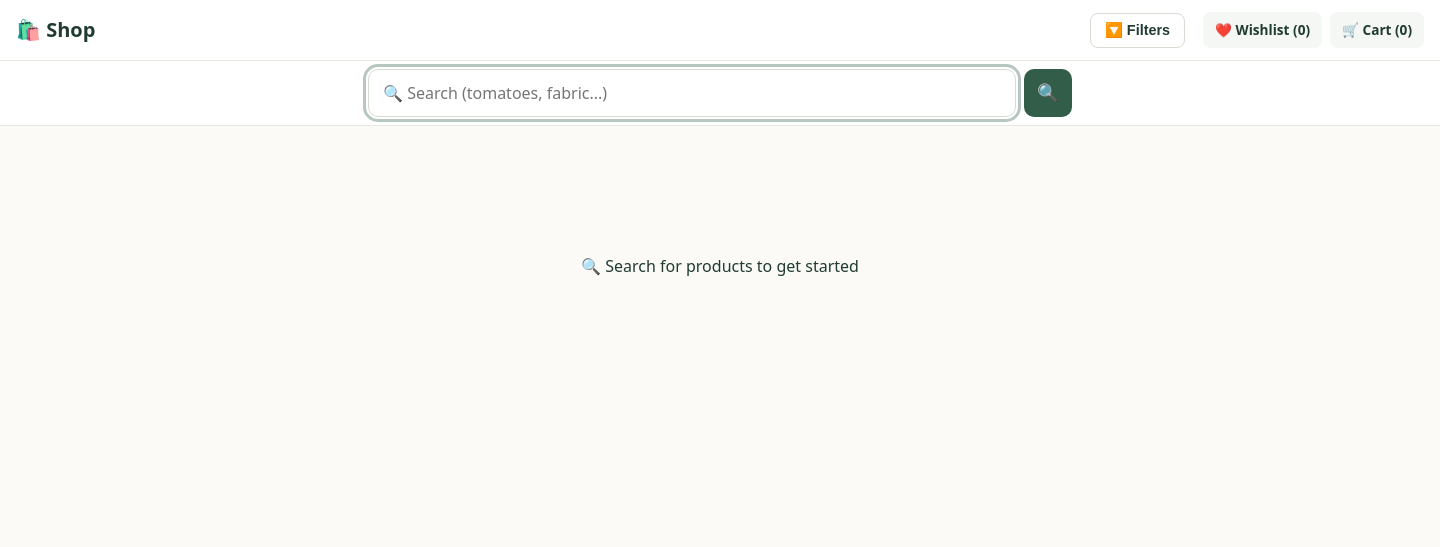
Test: minimal shopping page › does not add a product with no available option
Type "orange" into the field named "Search products" at (692, 93), box [368,69,1016,117]
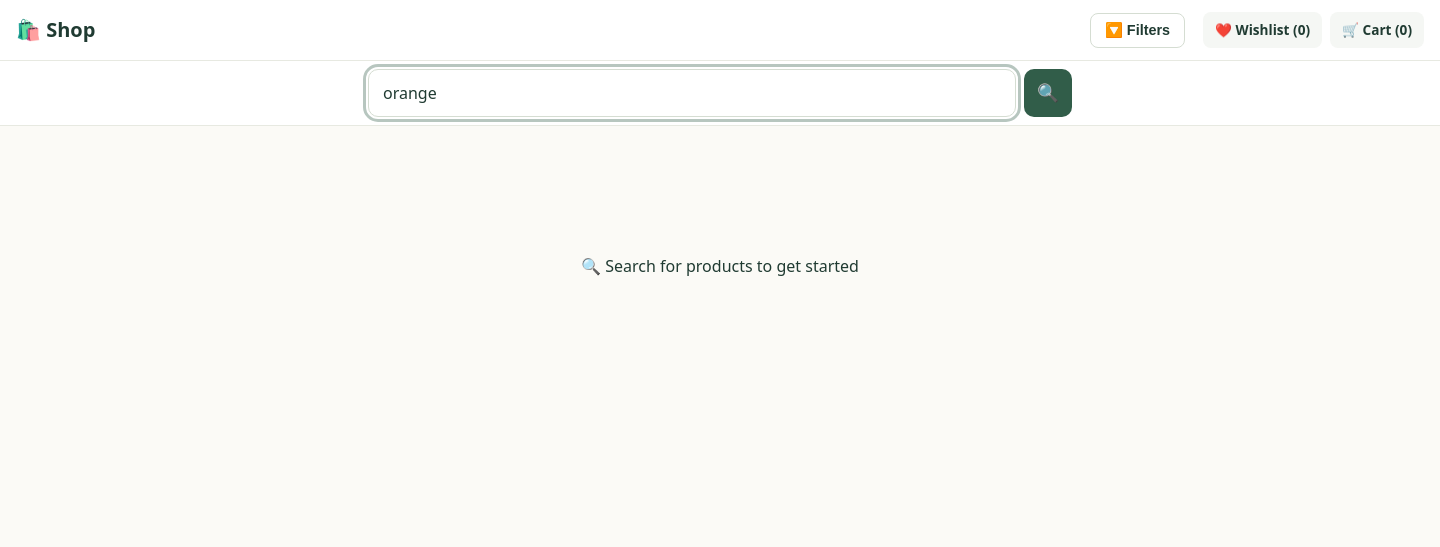
Submit the form, box [368,69,1072,117]
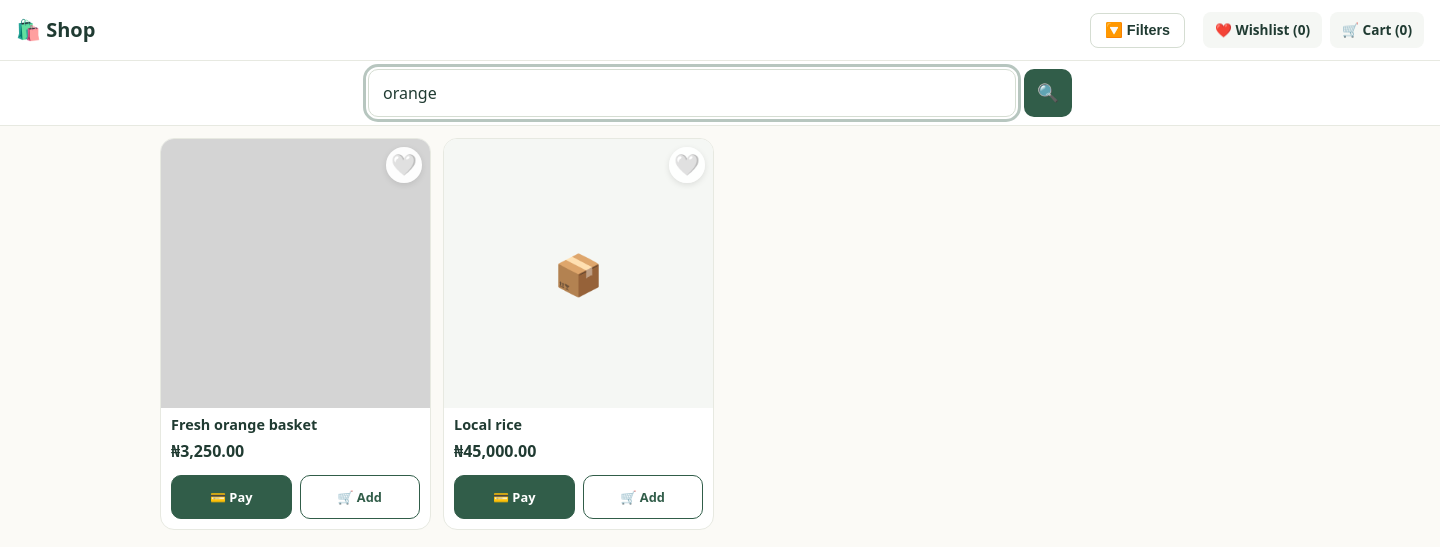
expect the heading "Fresh orange basket" is shown: met, box [171,415,317,434]
Click the button with aria-label "Add Local rice to cart" at (643, 497), box [582,475,703,519]
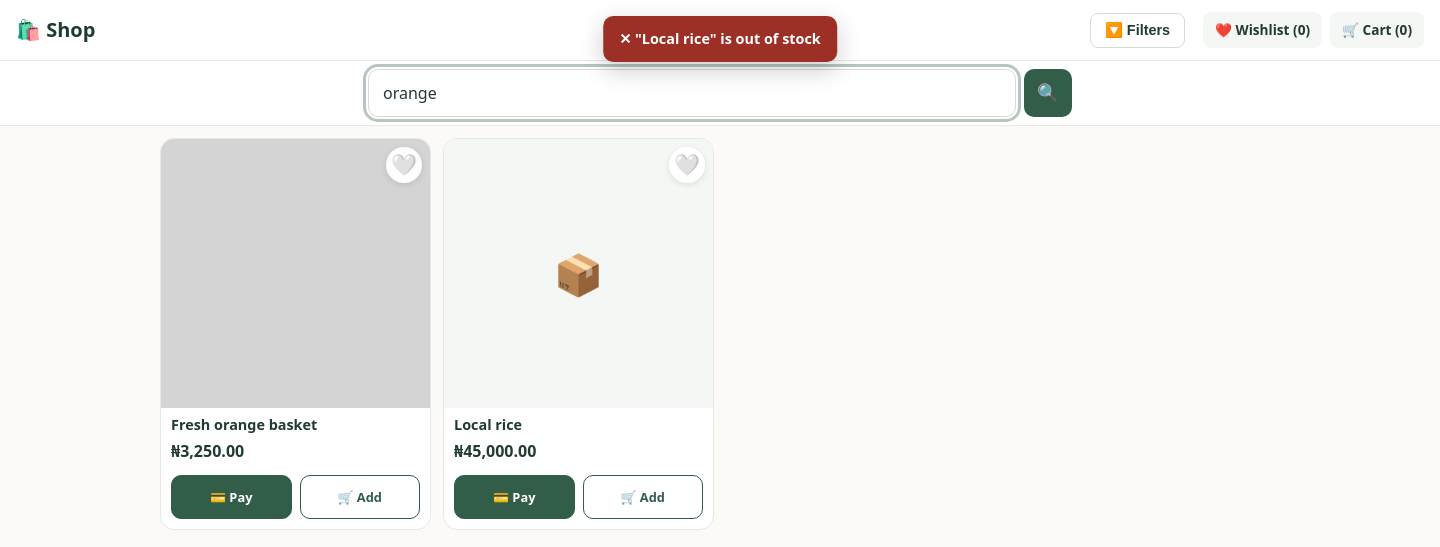
expect the text "✕ \"Local rice\" is out of stock" is shown: met, box [603,16,837,62]
